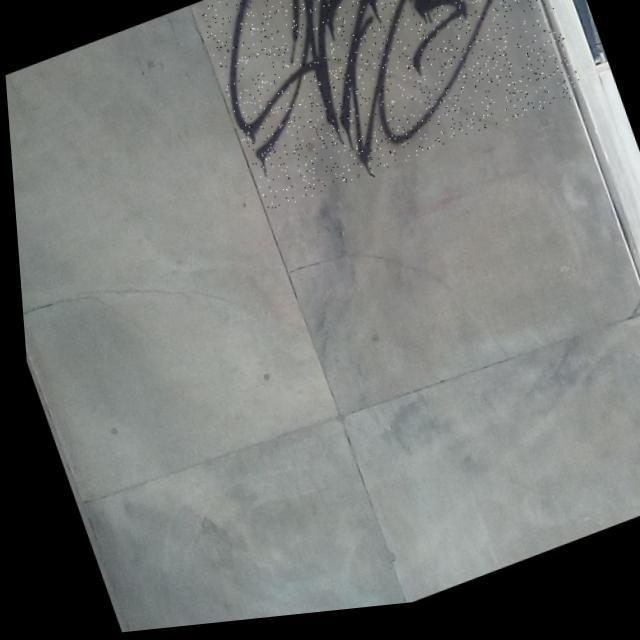-: (192, 0, 586, 222)
